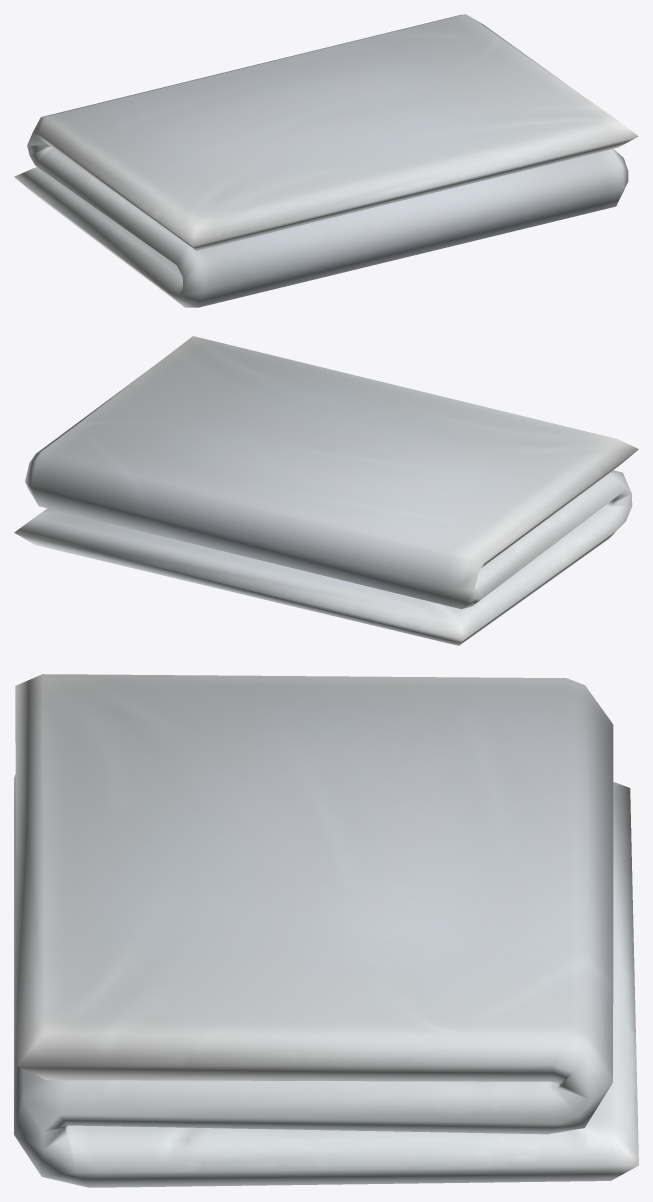
File: jov_fton01a1.fbx
The picture shows the model from 3 angles, top to bottom: view 1: azimuth 30°, elevation 25°; view 2: azimuth 150°, elevation 25°; view 3: azimuth 270°, elevation 25°; orthographic projection. The views are drawn at different scales.
Parts seen in each view (by area): view 1: jov_fton01a1; view 2: jov_fton01a1; view 3: jov_fton01a1.
Boxes of the visible parts, x1,y1,x2,y2 form: jov_fton01a1: (14, 14, 638, 307); jov_fton01a1: (14, 336, 638, 645); jov_fton01a1: (14, 674, 638, 1187).
Size of the model in its own units: 123 by 23.79 by 85.23.
